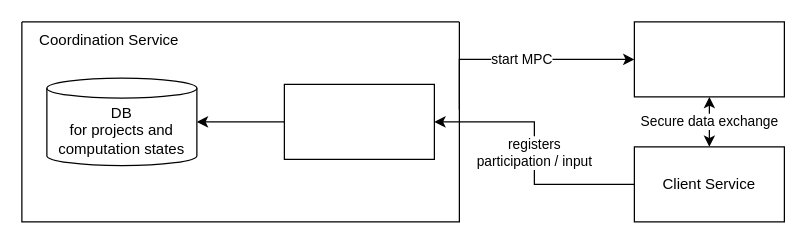
This 806x244 diagram has some shape labels left out. The shapes that lost their labels are listed below. From the top down, each one's centre as x and y in pixels, then its label:
At [708,59]: "Computation Service".
At [358,121]: "Coordination Service REST-API (poem)".
